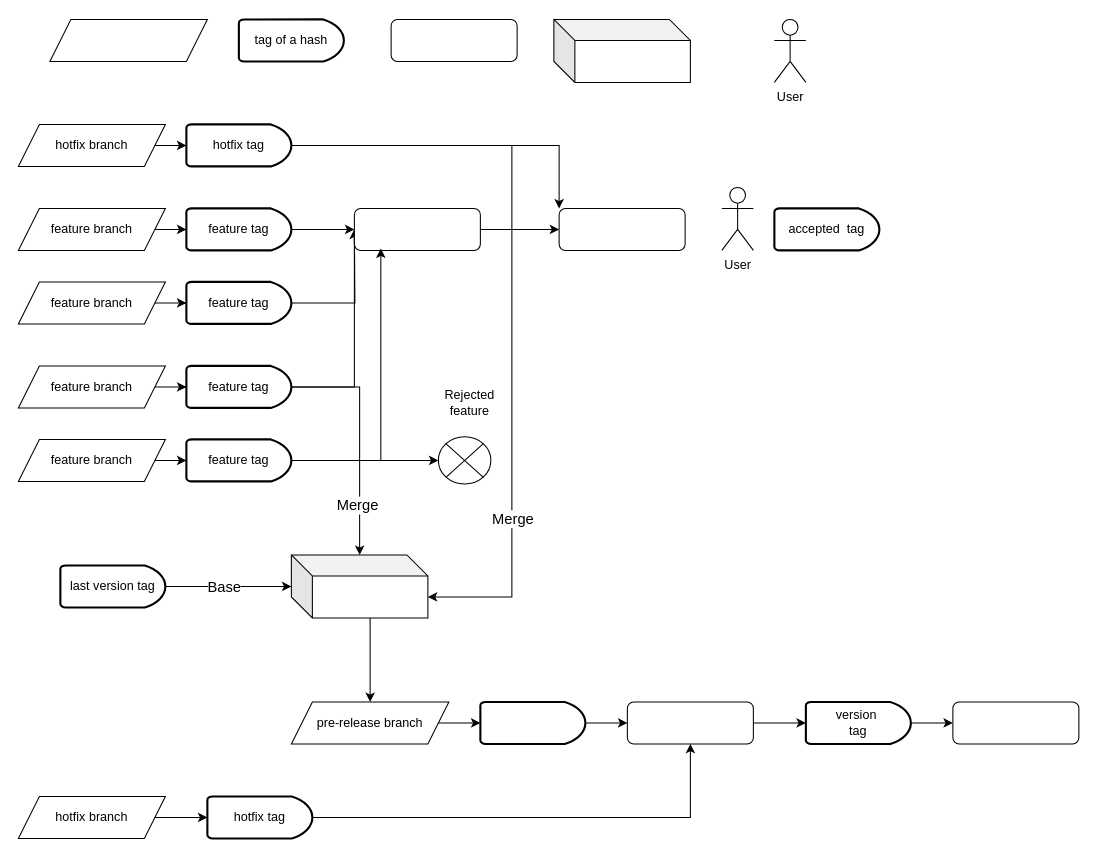
The diagram is 1097 pixels wide and 857 high, and some of its shapes have lost their labels. The centre of each missing label's shape, as x and y in pixels:
"alpha version tag" goes at (x=532, y=722).
"ephemeral branch" goes at (x=128, y=39).
"github action" goes at (x=621, y=50).
"main branch" goes at (x=416, y=228).
"permanent branch" goes at (x=453, y=39).
"pre-release creator" goes at (x=359, y=586).
"production branch" goes at (x=1015, y=722).
"staging branch" goes at (x=689, y=722).
"UA branch" goes at (x=621, y=228).
